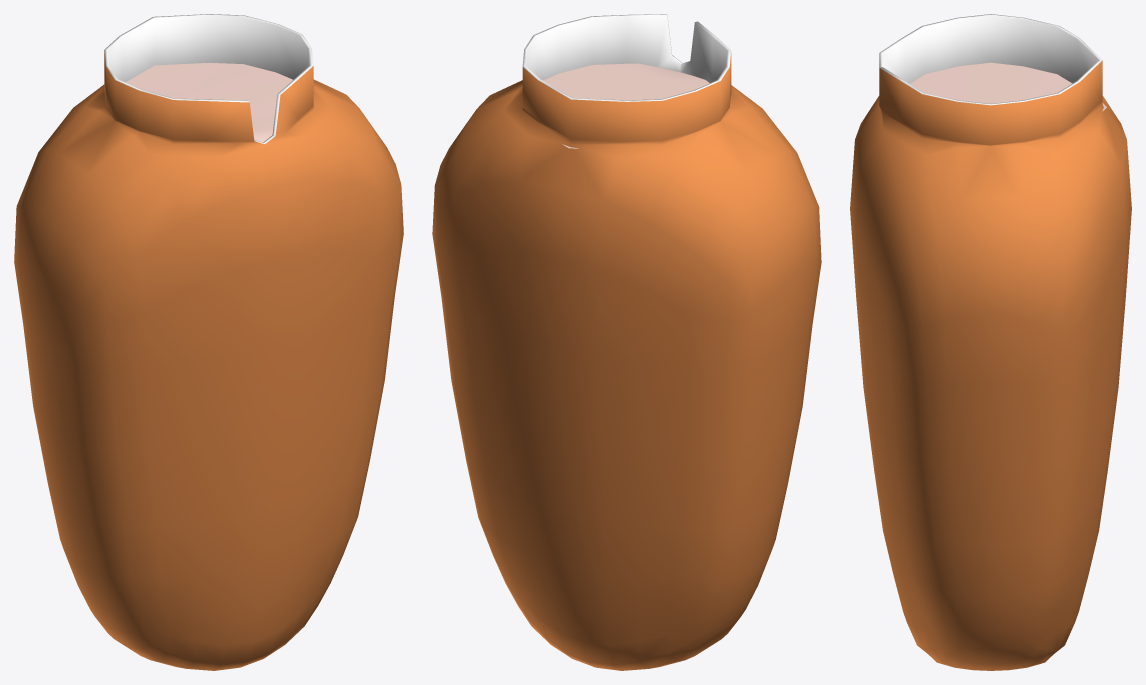
The model's file is NanHai.FBX.
3 views of the same model, side by side, from view 1: azimuth 30°, elevation 25°; view 2: azimuth 150°, elevation 25°; view 3: azimuth 270°, elevation 25° (orthographic).
Parts seen in each view (by area): view 1: w; view 2: w; view 3: w.
Part boxes in pixels (x1,y1,x2,y2): w: [14, 14, 403, 670]; w: [432, 14, 821, 670]; w: [850, 14, 1131, 670].
Bounding box in the file's own units: 35.44 × 58.03 × 25.05.
1 material, 1 textured.
